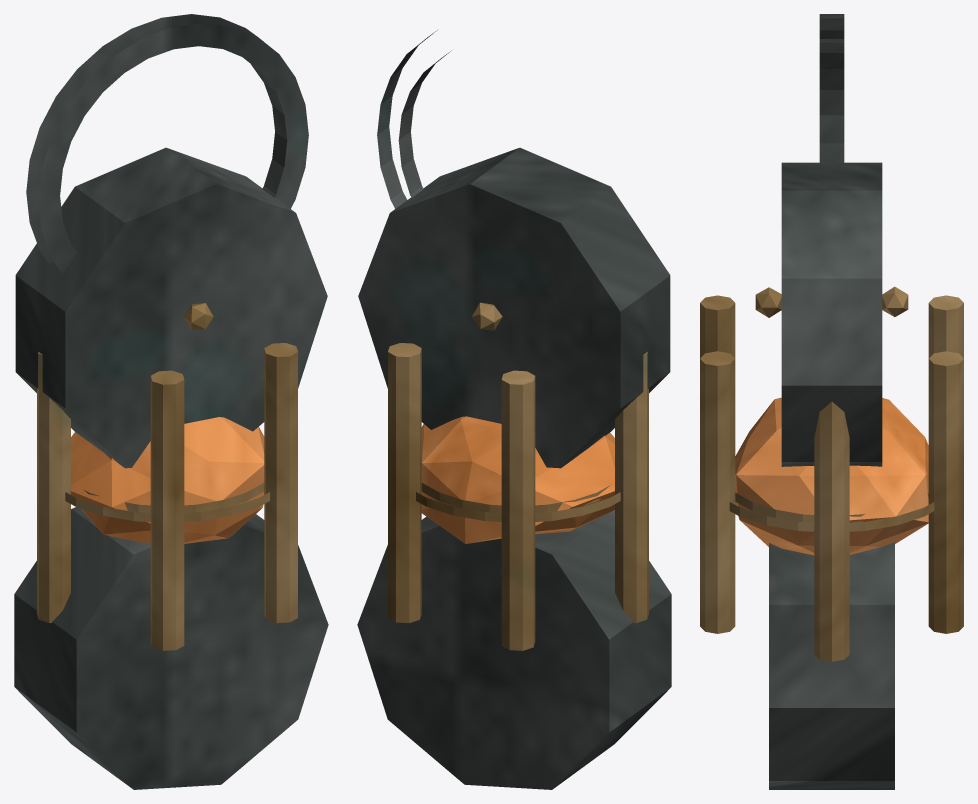
The model's file is 0912_lantern_12.glb.
The picture shows the model from 3 angles, left to right: view 1: azimuth 30°, elevation 25°; view 2: azimuth 150°, elevation 25°; view 3: azimuth 270°, elevation 25°; orthographic projection.
Parts seen in each view (by area): view 1: iron, brass, amber; view 2: iron, brass, amber; view 3: iron, brass, amber.
Boxes of the visible parts, bbox=[...] form: iron: bbox=[14, 14, 328, 789]; brass: bbox=[37, 303, 297, 650]; amber: bbox=[71, 417, 264, 543]; iron: bbox=[357, 30, 671, 789]; brass: bbox=[388, 302, 648, 650]; amber: bbox=[421, 416, 614, 543]; iron: bbox=[769, 14, 894, 789]; brass: bbox=[700, 286, 963, 661]; amber: bbox=[735, 397, 928, 555].
Size of the model in its own units: 0.5 by 1.32 by 0.4197.
Materials: 3 (3 with a texture image).
